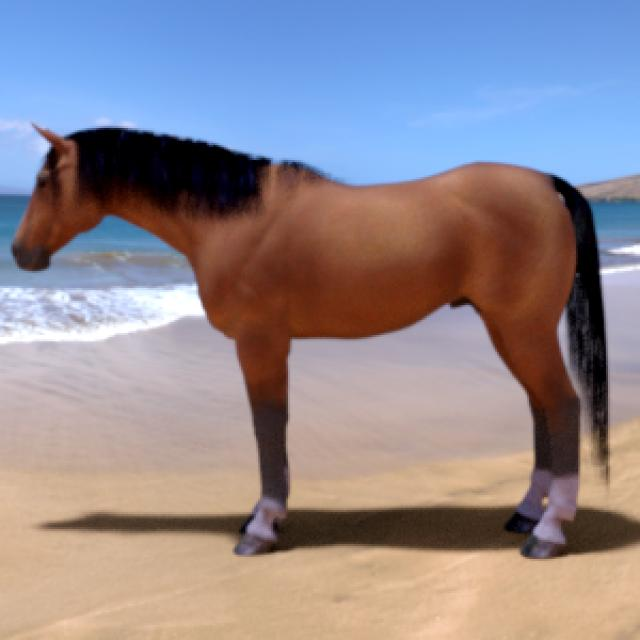horse: (12, 127, 608, 558)
